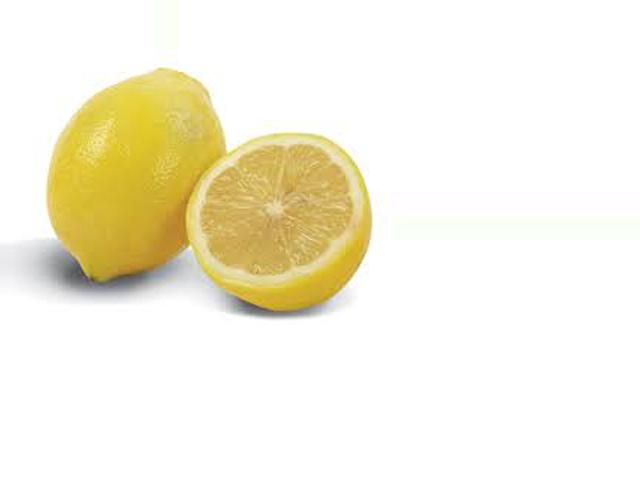lemon: (31, 62, 235, 291)
